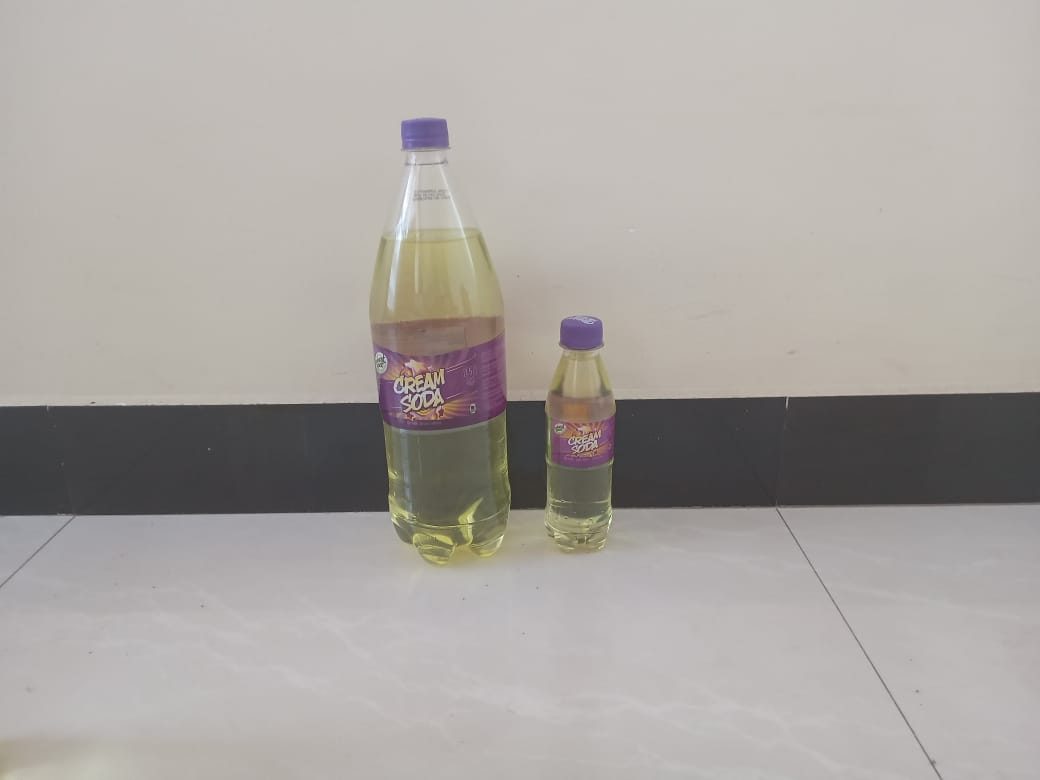L: (369, 118, 516, 566)
Xs: (545, 317, 620, 556)
